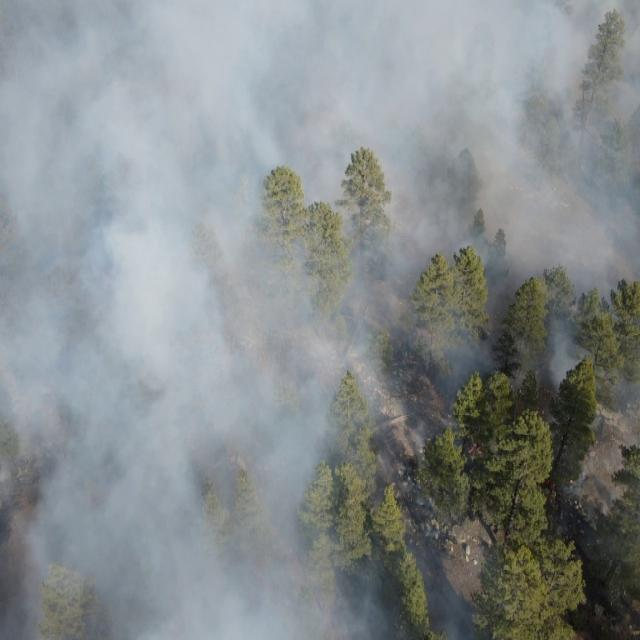fire: (467, 435, 482, 459)
smoke: (0, 0, 458, 640), (461, 0, 640, 392), (564, 399, 640, 529), (457, 515, 494, 640)
